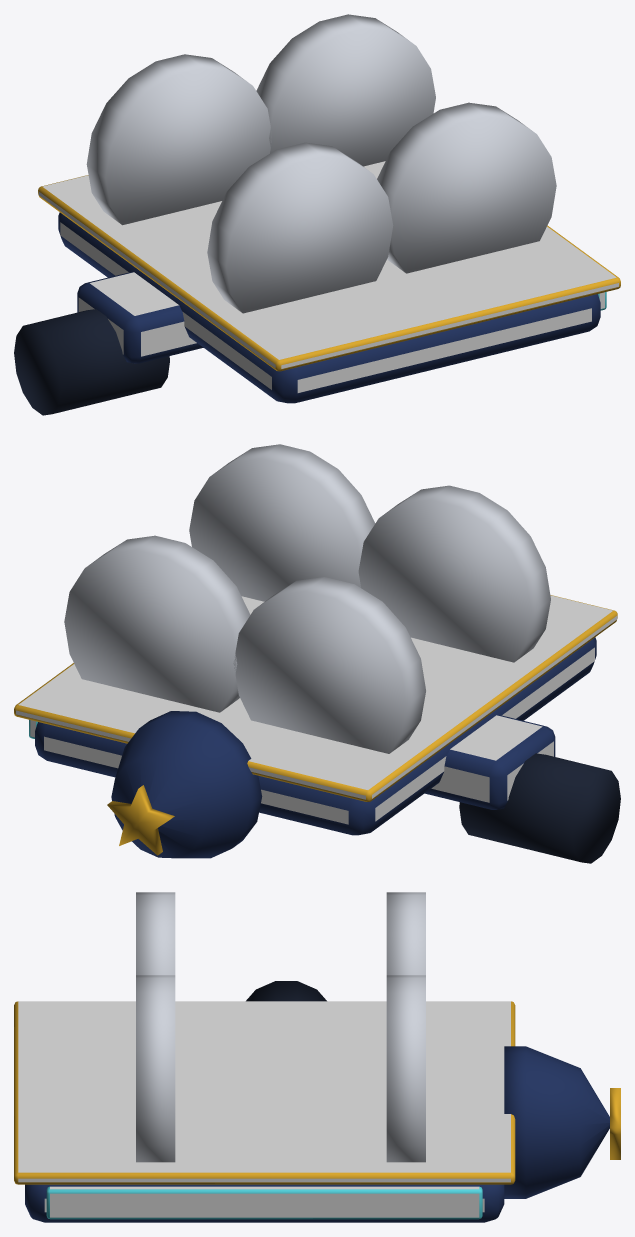
The model's file is lumo_rocket_pod.glb.
3 views of the same model, one above another, from view 1: azimuth 30°, elevation 25°; view 2: azimuth 150°, elevation 25°; view 3: azimuth 270°, elevation 25° (orthographic). The views are drawn at different scales.
Parts seen in each view (by area): view 1: LumoRocketPod; view 2: LumoRocketPod; view 3: LumoRocketPod.
Part boxes in pixels (x1,y1,x2,y2): LumoRocketPod: (14, 14, 620, 415); LumoRocketPod: (14, 444, 620, 863); LumoRocketPod: (14, 892, 620, 1222).
Size of the model in its own units: 0.501 by 0.2695 by 0.557.
